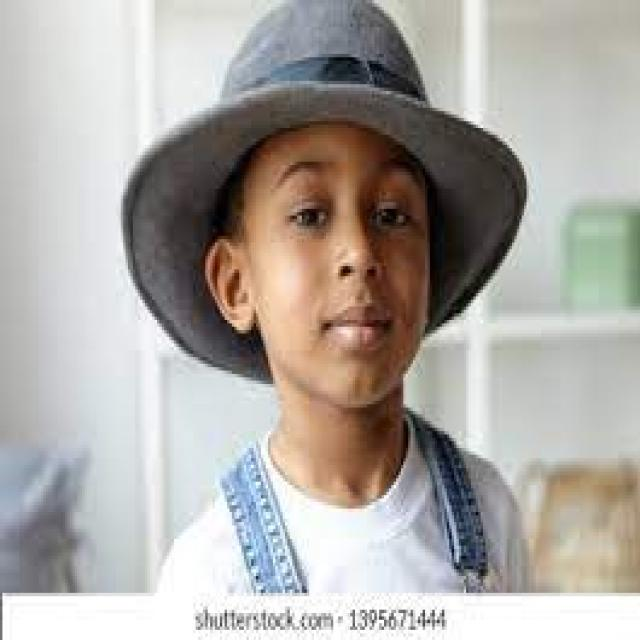hat: (134, 0, 508, 384)
